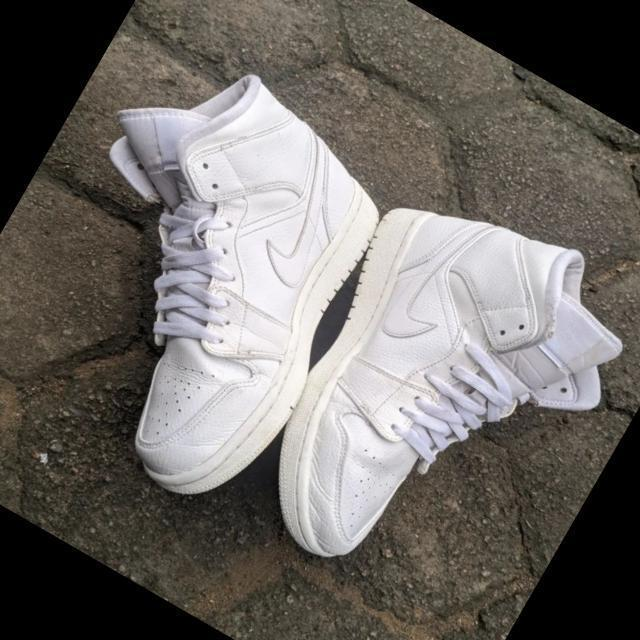nike fake jordan 1: (0, 39, 422, 531), (223, 160, 640, 640)
